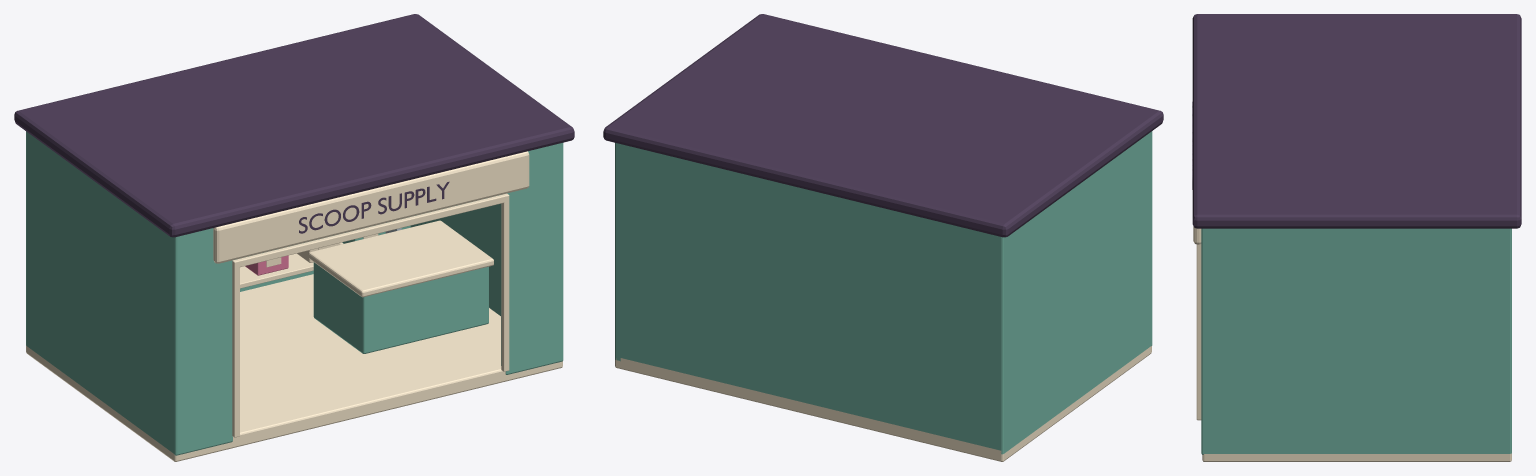
Rendered from Supplier_storefront.fbx.
3 renders of one model, left to right at view 1: azimuth 30°, elevation 25°; view 2: azimuth 150°, elevation 25°; view 3: azimuth 270°, elevation 25°, orthographic. The views are drawn at different scales.
Visible parts, largest first — view 1: Toon_Supplier_storefront_ROOT Roof.001, Toon_Supplier_storefront_ROOT Side wall.002, Toon_Supplier_storefront_ROOT Floor.001, Toon_Supplier_storefront_ROOT Doorway pier.002, Toon_Supplier_storefront_ROOT Store sign.001, Toon_Supplier_storefront_ROOT Collection counter.001, Toon_Supplier_storefront_ROOT Doorway pier.003, Toon_Supplier_storefront_ROOT Collection worktop.001, Toon_Supplier_storefront_ROOT Doorway lintel.001, Toon_Supplier_storefront_ROOT Side wall.003, Toon_Supplier_storefront_ROOT Open doorway trim.001, Toon_Supplier_storefront_ROOT Doorway trim.003 (+3 smaller); view 2: Toon_Supplier_storefront_ROOT Back wall.001, Toon_Supplier_storefront_ROOT Roof.001, Toon_Supplier_storefront_ROOT Side wall.002, Toon_Supplier_storefront_ROOT Floor.001, Toon_Supplier_storefront_ROOT Side wall.003, Toon_Supplier_storefront_ROOT Doorway pier.002; view 3: Toon_Supplier_storefront_ROOT Roof.001, Toon_Supplier_storefront_ROOT Side wall.003, Toon_Supplier_storefront_ROOT Floor.001, Toon_Supplier_storefront_ROOT Doorway pier.003, Toon_Supplier_storefront_ROOT Doorway trim.003.
Part boxes in pixels (bbox=[...]): Toon_Supplier_storefront_ROOT Roof.001: bbox=[14, 14, 574, 237]; Toon_Supplier_storefront_ROOT Side wall.002: bbox=[26, 131, 170, 451]; Toon_Supplier_storefront_ROOT Floor.001: bbox=[26, 274, 562, 461]; Toon_Supplier_storefront_ROOT Doorway pier.002: bbox=[171, 228, 232, 455]; Toon_Supplier_storefront_ROOT Store sign.001: bbox=[213, 151, 529, 263]; Toon_Supplier_storefront_ROOT Collection counter.001: bbox=[313, 262, 488, 353]; Toon_Supplier_storefront_ROOT Doorway pier.003: bbox=[501, 143, 563, 374]; Toon_Supplier_storefront_ROOT Collection worktop.001: bbox=[308, 220, 493, 297]; Toon_Supplier_storefront_ROOT Doorway lintel.001: bbox=[177, 143, 562, 278]; Toon_Supplier_storefront_ROOT Side wall.003: bbox=[410, 203, 500, 315]; Toon_Supplier_storefront_ROOT Open doorway trim.001: bbox=[232, 193, 509, 267]; Toon_Supplier_storefront_ROOT Doorway trim.003: bbox=[501, 199, 509, 371]; Toon_Supplier_storefront_ROOT Back wall.001: bbox=[620, 144, 996, 449]; Toon_Supplier_storefront_ROOT Roof.001: bbox=[603, 14, 1163, 237]; Toon_Supplier_storefront_ROOT Side wall.002: bbox=[997, 134, 1148, 454]; Toon_Supplier_storefront_ROOT Floor.001: bbox=[615, 346, 1151, 461]; Toon_Supplier_storefront_ROOT Side wall.003: bbox=[615, 143, 620, 361]; Toon_Supplier_storefront_ROOT Doorway pier.002: bbox=[1148, 131, 1152, 347]; Toon_Supplier_storefront_ROOT Roof.001: bbox=[1192, 14, 1521, 228]; Toon_Supplier_storefront_ROOT Side wall.003: bbox=[1211, 228, 1511, 453]; Toon_Supplier_storefront_ROOT Floor.001: bbox=[1202, 453, 1511, 461]; Toon_Supplier_storefront_ROOT Doorway pier.003: bbox=[1201, 228, 1210, 454]; Toon_Supplier_storefront_ROOT Doorway trim.003: bbox=[1196, 244, 1201, 420].
Size of the model in its own units: 625 by 357 by 425.
